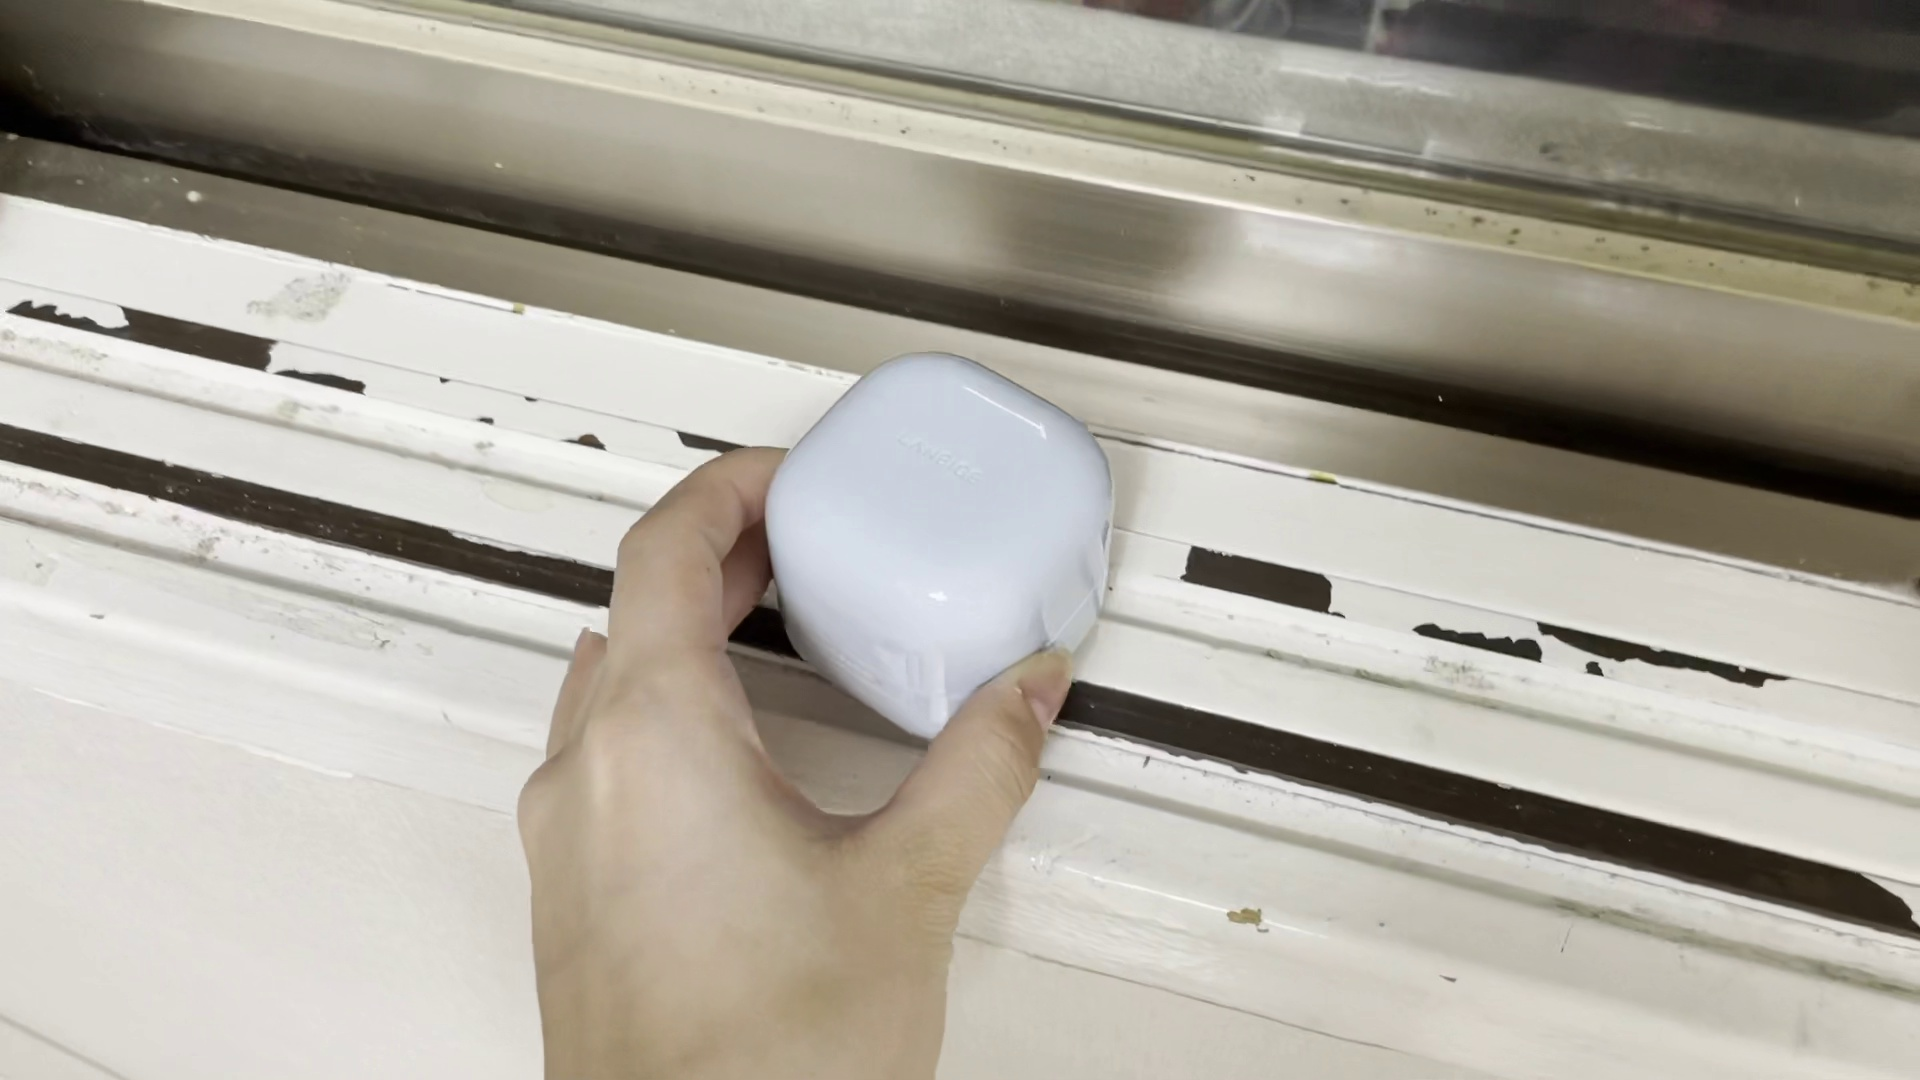cream: (764, 357, 1114, 738)
